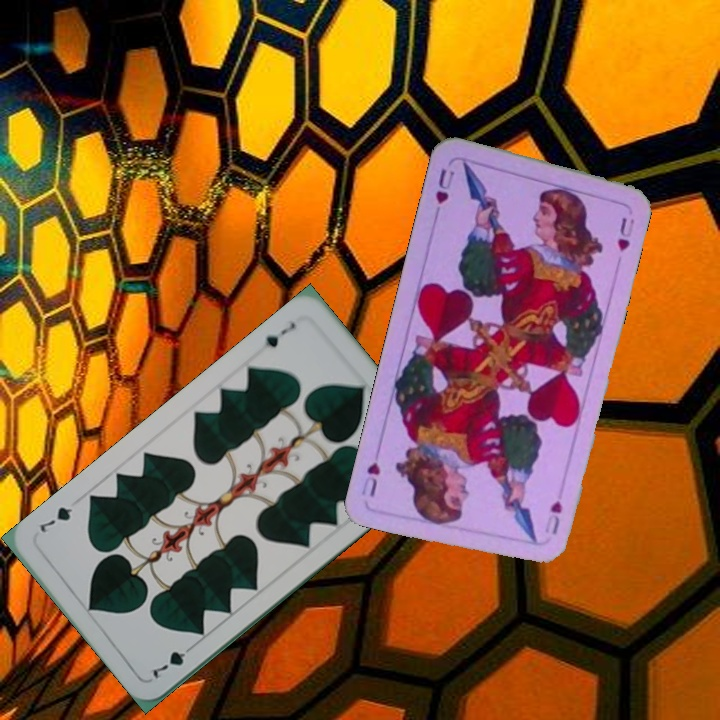G7: (148, 639, 198, 682), (261, 317, 298, 351)
HU: (430, 165, 457, 219), (540, 496, 566, 537)
